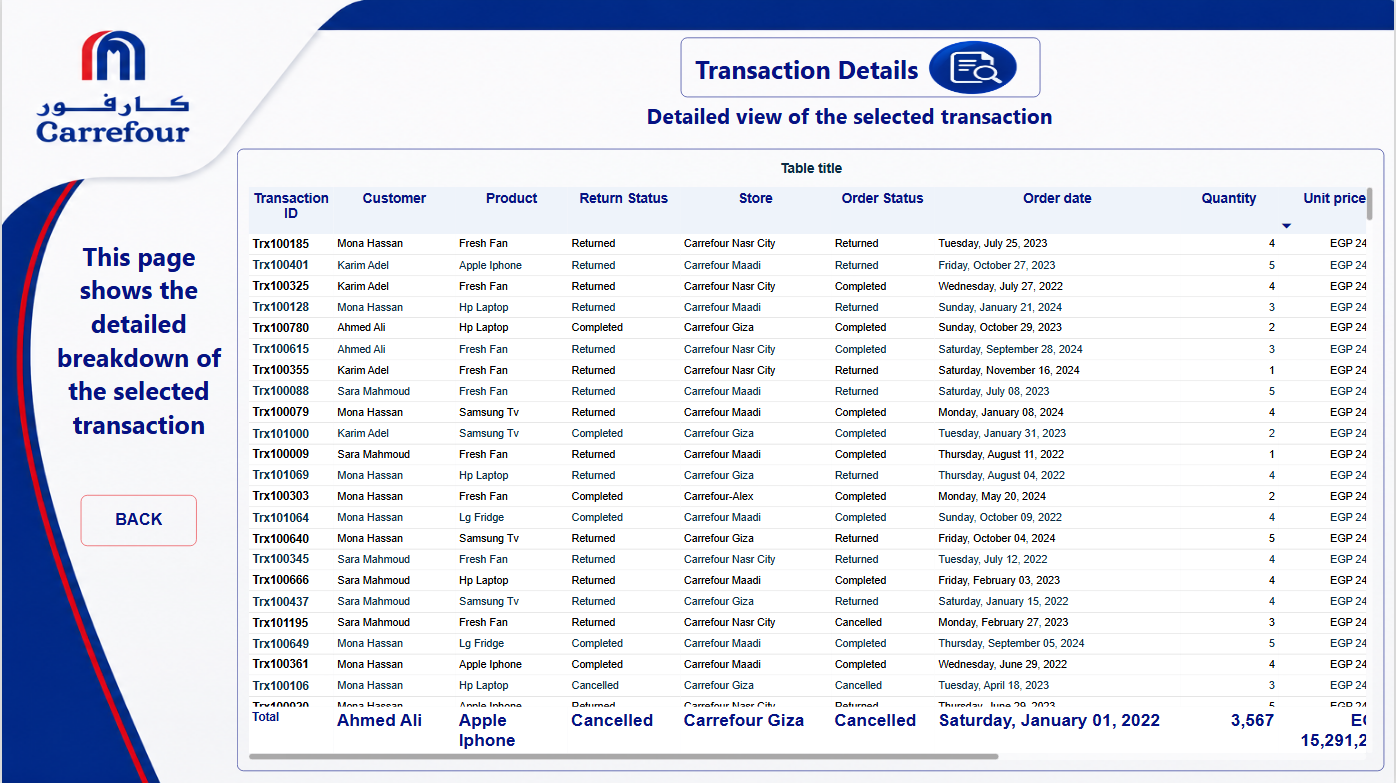

The page's visual inventory and layout, read from the dashboard file:
{"tool":"powerbi","page":{"name":"Transaction Details","canvas":[1920,1080],"ordinal":6},"visuals":[{"type":"pivotTable","fields":{"Rows":["Sales.TransactionID"],"Values":["Min(Sales.CustomerName)","Min(Sales.ProductName)","Min(Sales.Return Status)","Min(Sales.StoreName)","Min(Sales.OrderStatus)","Min(Sales.Order date)","Sum(Sales.Quantity)","Sum(Sales.Unit price)","Min(Sales.PaymentMethod)","Min(Sales.OrderChannel)","Sum(Sales.DiscountValue)","Sum(Sales.Total Sales)"]},"box":[324,206,1582,858],"z":0},{"type":"actionButton","box":[108,682,160,70],"z":1000},{"type":"shape","box":[936,52,496,82],"z":2000},{"type":"shape","box":[20,134,336,668],"z":3000},{"type":"shape","box":[806,110,728,96],"z":4000},{"type":"image","box":[1258,36,174,118],"z":5000}]}

Visuals, with their boxes in screenshot pixels (x1, y1, x2, y2), scaled from the page's 1920x1080 canvas onto the 1396x783 screenshot:
pivotTable - Sales.TransactionID x Min(Sales.CustomerName): BBox(236, 149, 1386, 771)
actionButton: BBox(79, 494, 195, 545)
shape: BBox(681, 38, 1041, 97)
shape: BBox(15, 97, 259, 581)
shape: BBox(586, 80, 1115, 149)
image: BBox(915, 26, 1041, 112)
